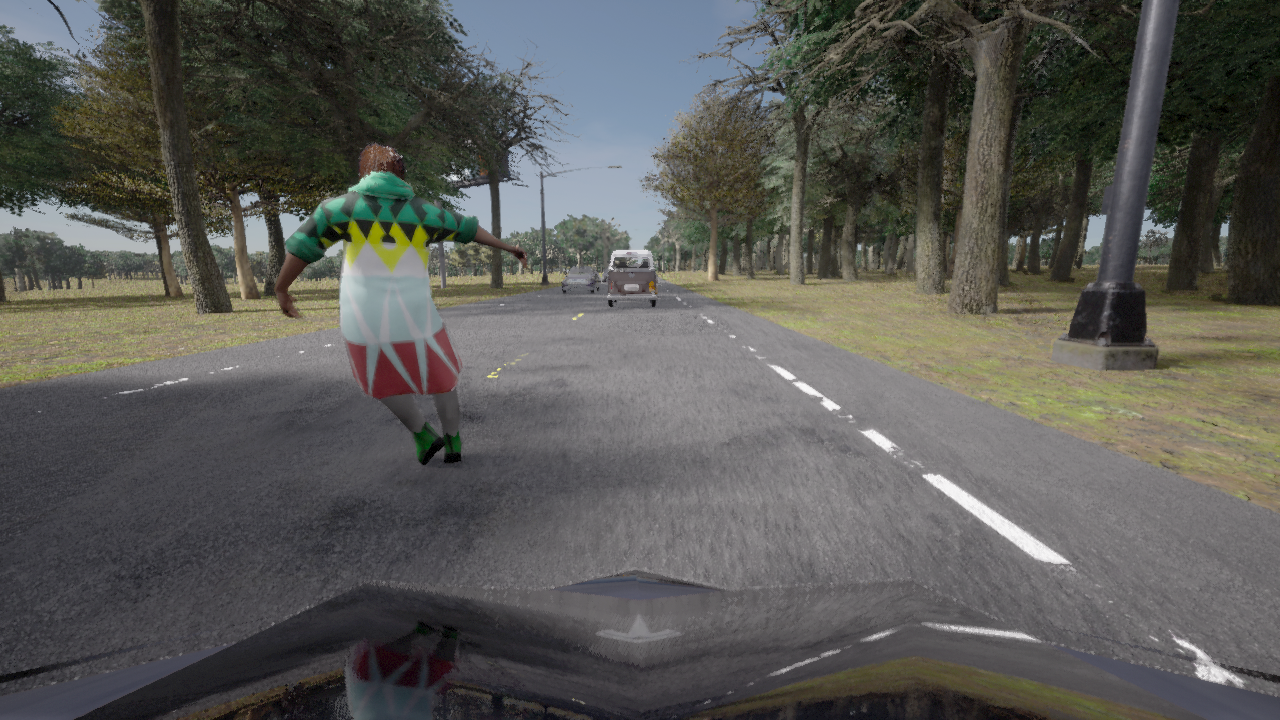cyclist: (0, 569, 1279, 719), (606, 248, 658, 307), (561, 265, 599, 293), (602, 266, 607, 281)
pedestrian: (274, 144, 527, 465)
